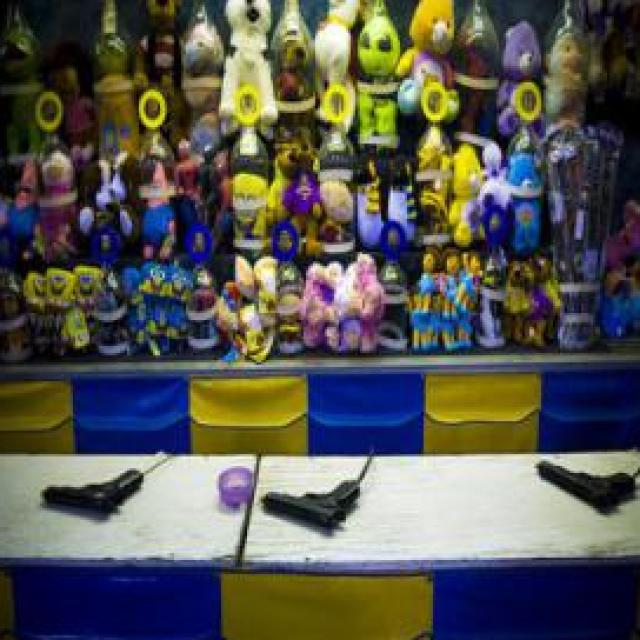pistol: (254, 468, 361, 536), (534, 459, 639, 520), (42, 466, 146, 520)
